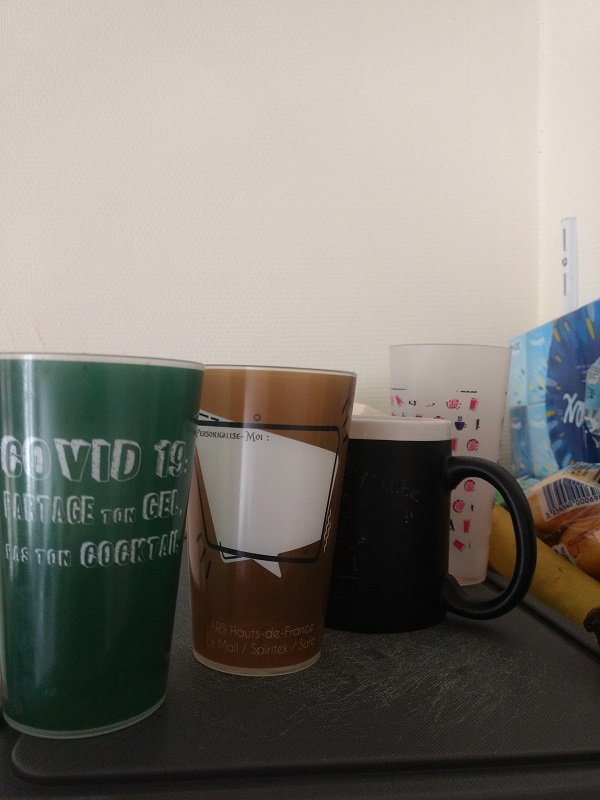ecocup: (1, 350, 205, 740), (191, 357, 356, 680), (382, 338, 510, 594)
